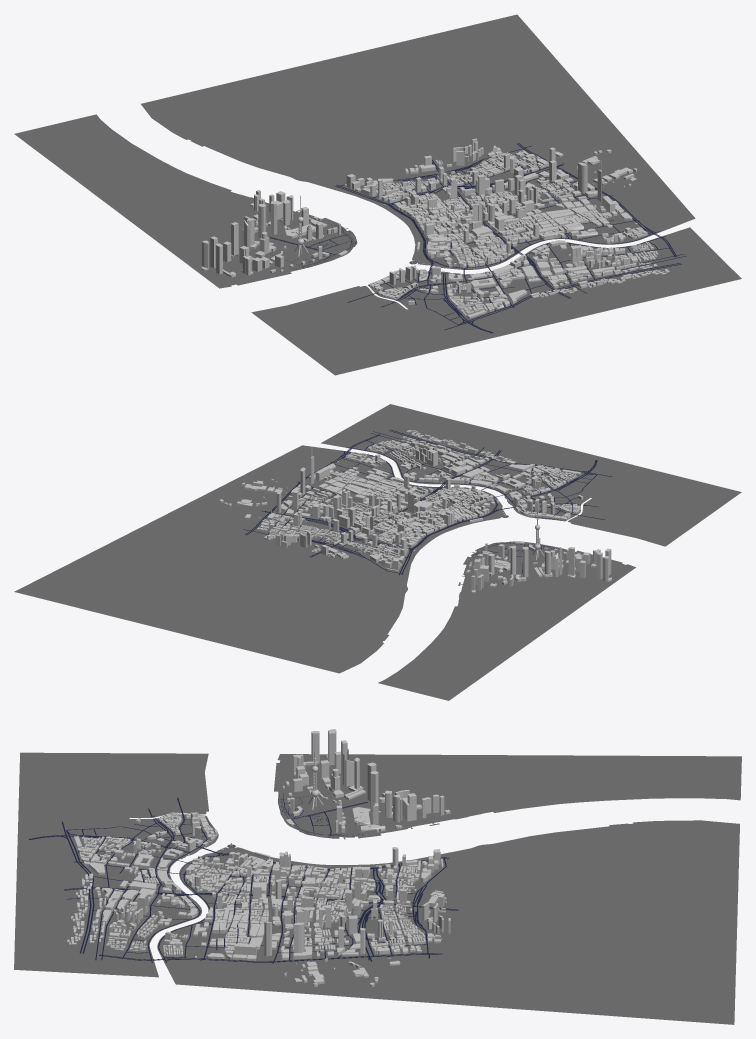
File: shanghai-new.FBX
3 views of the same model, one above another, from view 1: azimuth 30°, elevation 25°; view 2: azimuth 150°, elevation 25°; view 3: azimuth 270°, elevation 25° (orthographic). The views are drawn at different scales.
Visible parts, largest first — view 1: LANDMASS, CITY_UNTRIANGULATED, ROADS; view 2: LANDMASS, CITY_UNTRIANGULATED, ROADS; view 3: LANDMASS, CITY_UNTRIANGULATED, ROADS.
Part boxes in pixels (bbox=[...]): LANDMASS: bbox=[14, 14, 741, 375]; CITY_UNTRIANGULATED: bbox=[201, 138, 669, 318]; ROADS: bbox=[269, 143, 686, 333]; LANDMASS: bbox=[14, 404, 741, 700]; CITY_UNTRIANGULATED: bbox=[219, 430, 611, 593]; ROADS: bbox=[243, 429, 612, 575]; LANDMASS: bbox=[14, 752, 741, 1024]; CITY_UNTRIANGULATED: bbox=[67, 729, 450, 986]; ROADS: bbox=[28, 793, 458, 963].
Bounding box in the file's own units: 9126 × 1017 × 10313.
